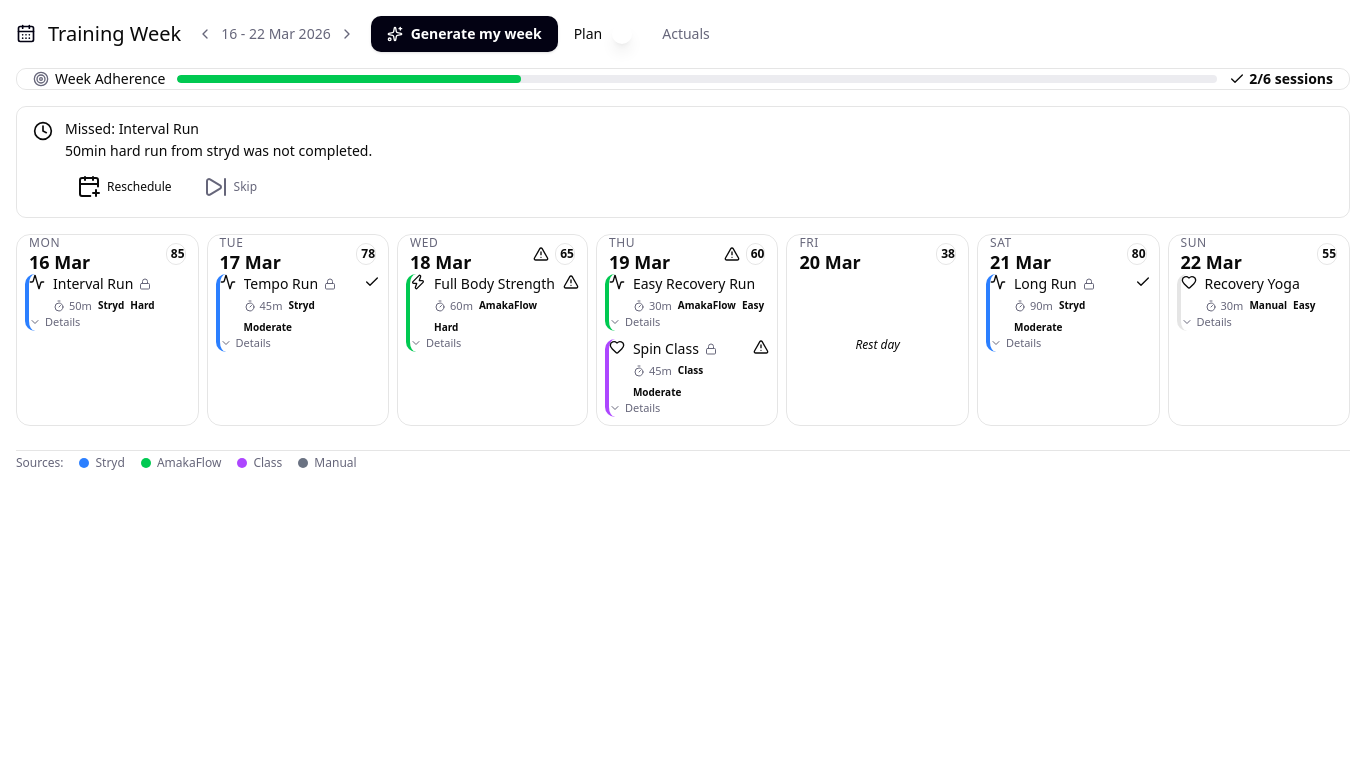
it: TrainingWeekView › expands session details on click
Click the button "Details" below "16 Mar" at (55, 322), box x1=29 y1=314 x2=80 y2=330
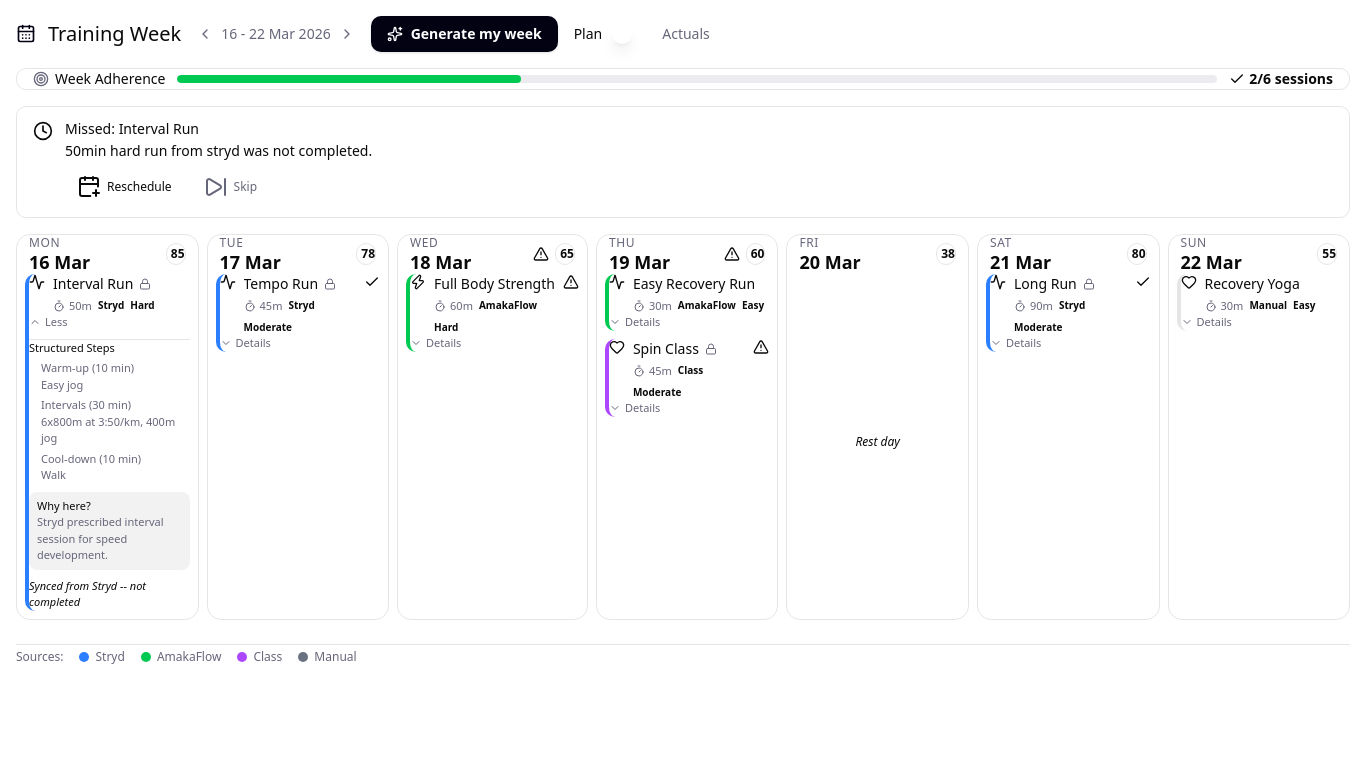
Expected: the element with test id "session-expanded" is shown, x1=29 y1=338 x2=190 y2=610
Expected: the text "Why here?" is shown, x1=37 y1=498 x2=91 y2=514
